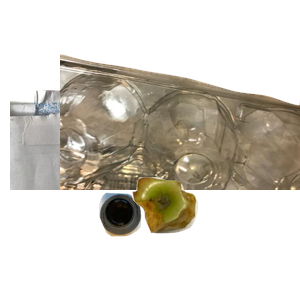glass: (96, 190, 230, 300)
paper: (10, 84, 250, 264)
plastic: (60, 52, 300, 232)
trash: (130, 175, 300, 300)
